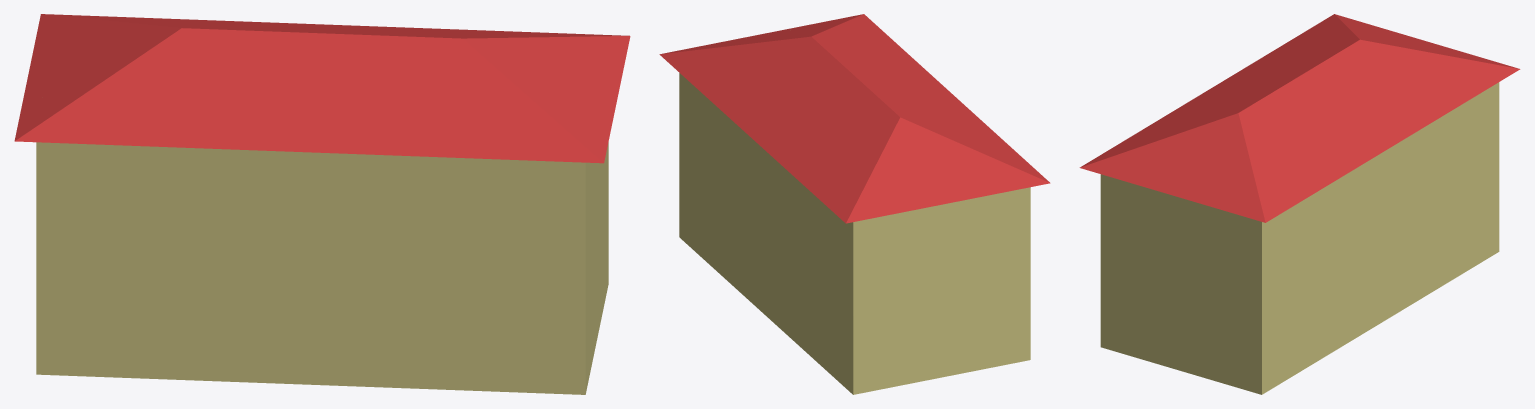
3 renders of one model, left to right at view 1: azimuth 30°, elevation 25°; view 2: azimuth 150°, elevation 25°; view 3: azimuth 270°, elevation 25°, orthographic. The views are drawn at different scales.
Parts seen in each view (by area): view 1: group_5, group_3, group_4; view 2: group_5, group_3, group_4; view 3: group_5, group_3, group_4.
Boxes of the visible parts, left/top/right/bottom form: group_5: left=36, top=142, right=608, bottom=394; group_3: left=15, top=16, right=629, bottom=163; group_4: left=14, top=14, right=630, bottom=162; group_5: left=679, top=73, right=1030, bottom=394; group_3: left=659, top=14, right=1049, bottom=221; group_4: left=661, top=14, right=1050, bottom=223; group_5: left=1100, top=82, right=1499, bottom=394; group_3: left=1080, top=15, right=1498, bottom=222; group_4: left=1079, top=14, right=1520, bottom=222.
Size of the model in its own units: 32.47 by 28.97 by 16.15.
